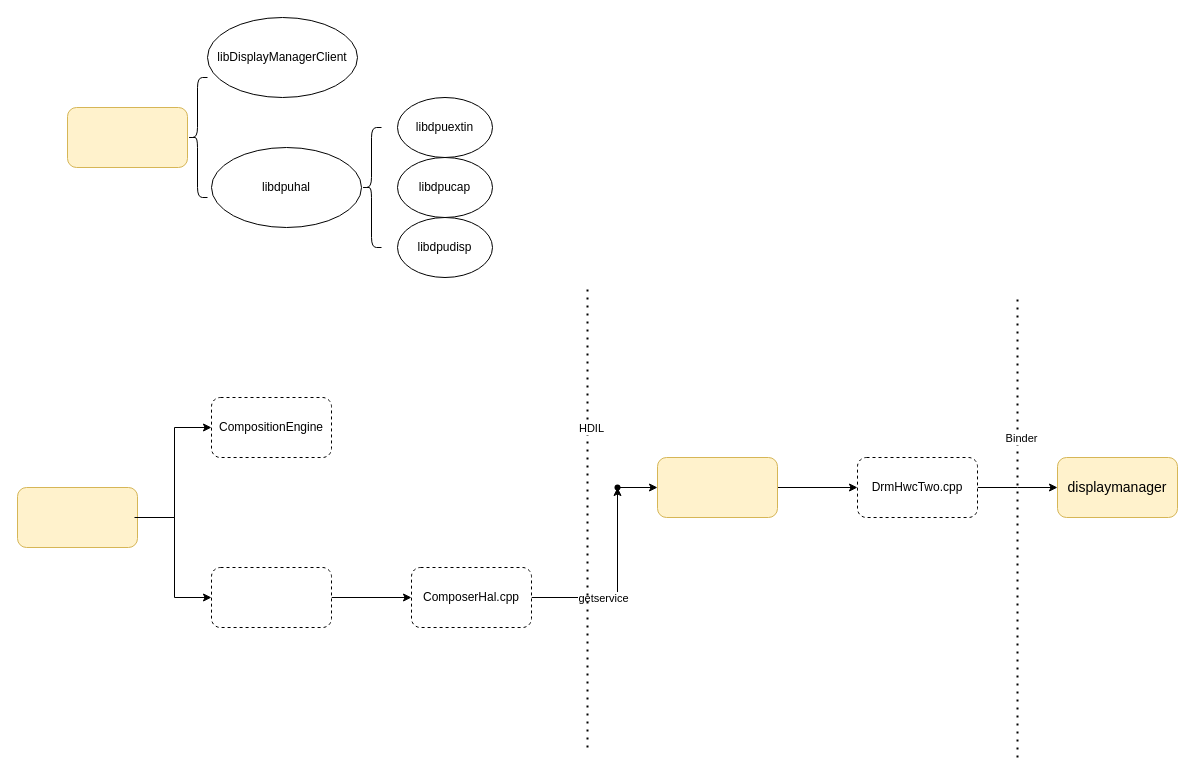
This 1195x777 diagram has some shape labels left out. Each missing label, with the centre of its shape:
"composer" goes at point (717, 487).
"display_manager" goes at point (127, 137).
"DisplayHardware" goes at point (271, 597).
"SurfaceFlinger" goes at point (77, 517).
